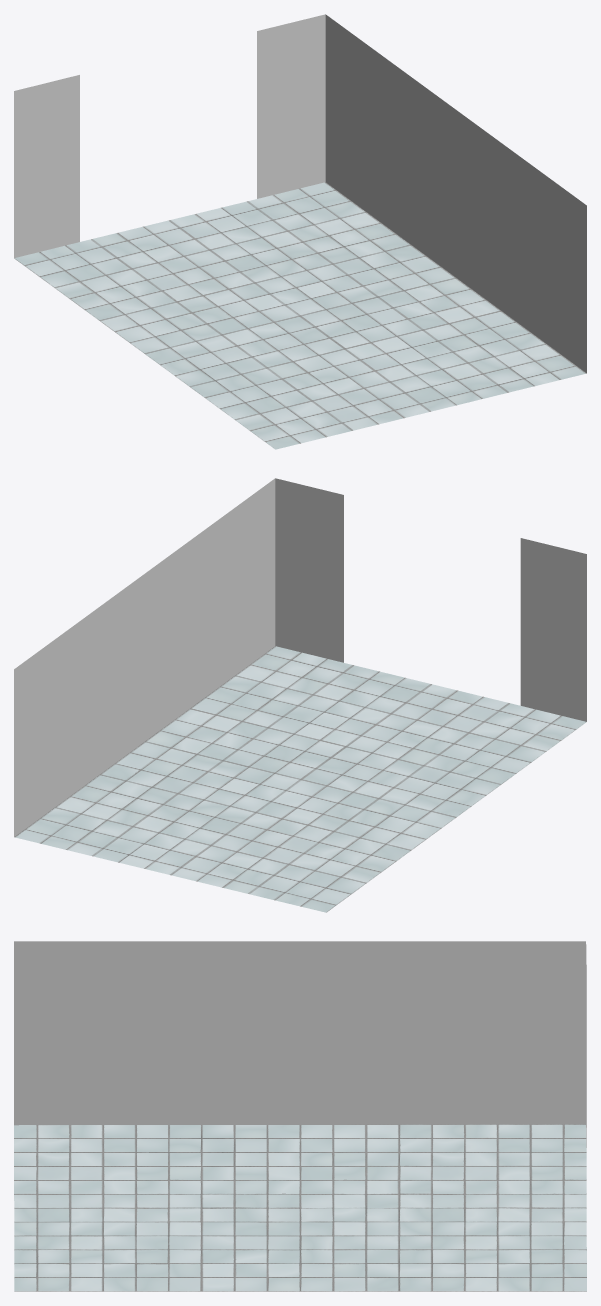
File: rz_room2.glb
3 views of the same model, one above another, from view 1: azimuth 30°, elevation 25°; view 2: azimuth 150°, elevation 25°; view 3: azimuth 270°, elevation 25° (orthographic). The views are drawn at different scales.
Visible parts, largest first — view 1: Cube; view 2: Cube; view 3: Cube.
Part boxes in pixels (bbox=[...]): Cube: bbox=[14, 14, 586, 449]; Cube: bbox=[14, 478, 586, 912]; Cube: bbox=[14, 941, 586, 1291].
Size of the model in its own units: 14.12 by 7.26 by 20.49.
3 materials, 2 textured.
